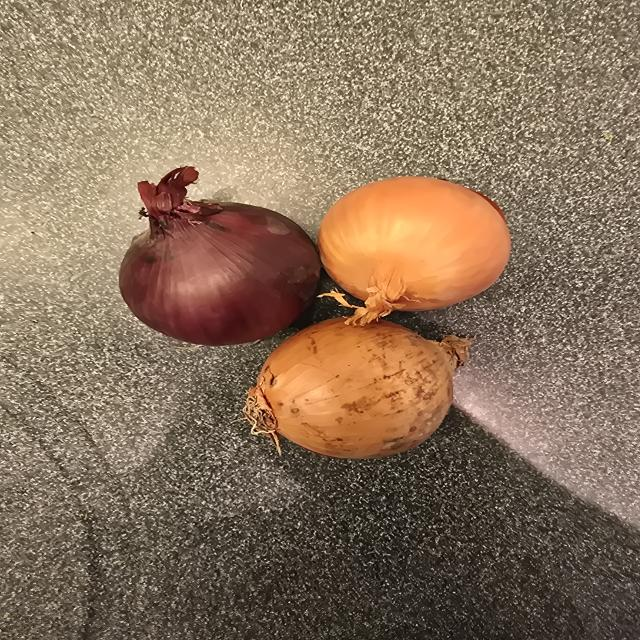Onion: (119, 167, 321, 346), (244, 316, 470, 458), (318, 177, 511, 323)
